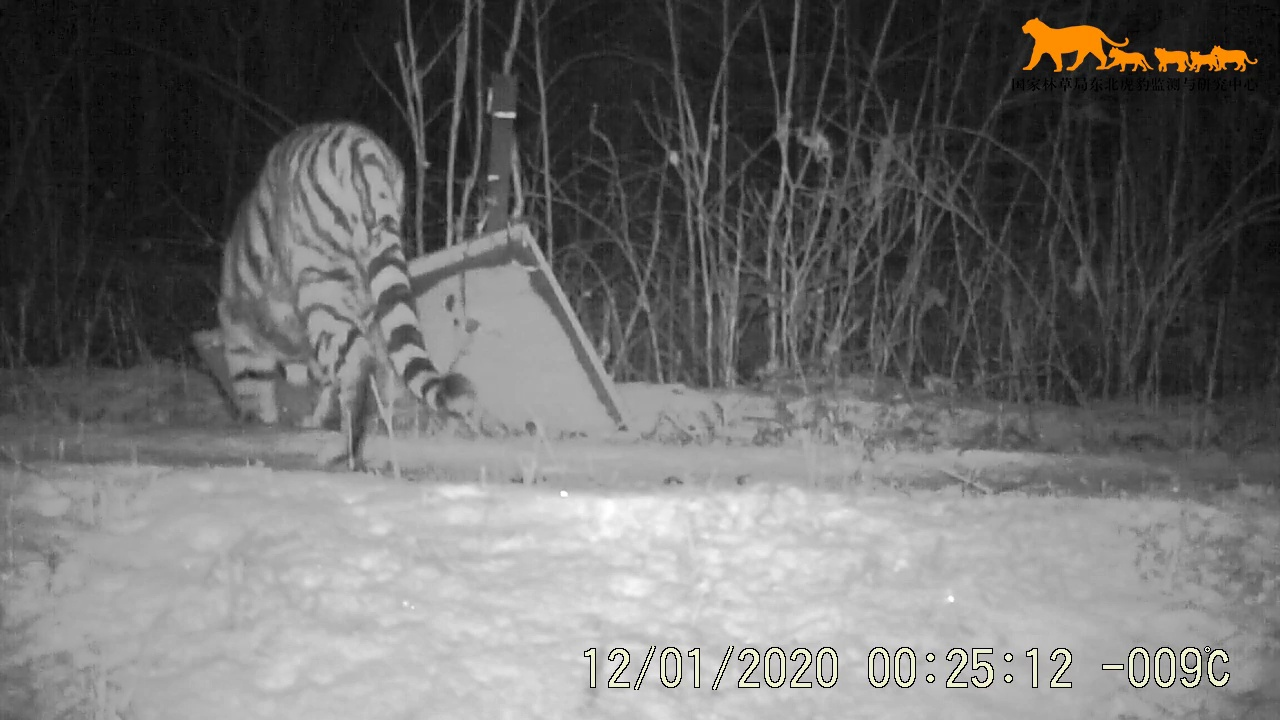Tiger: (177, 74, 582, 475)
